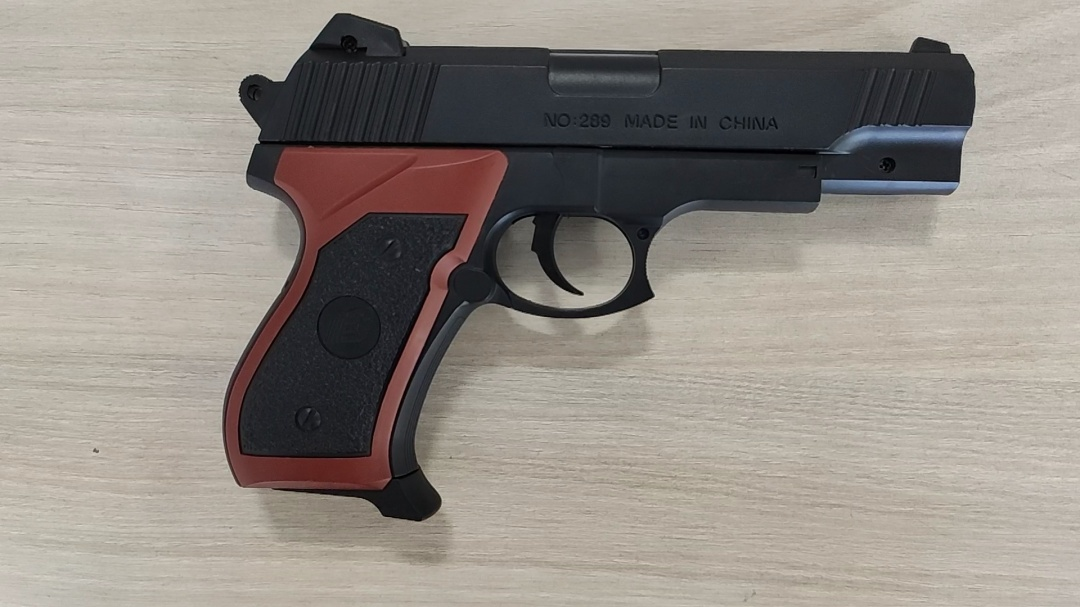gun: (208, 8, 980, 527)
